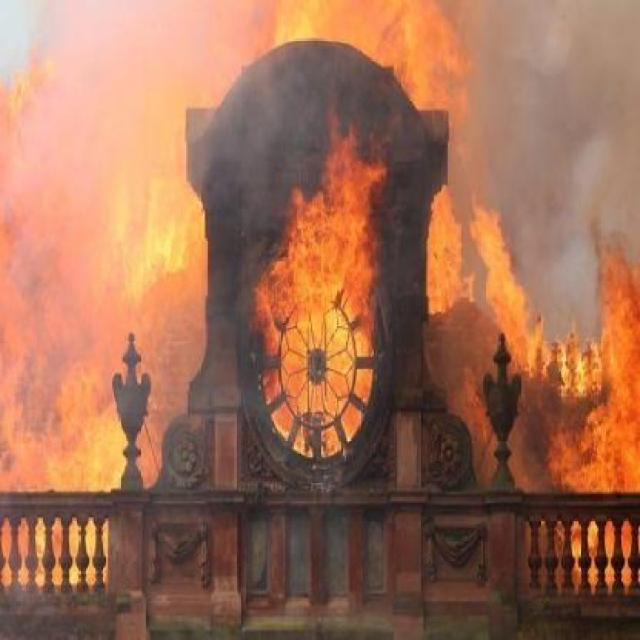Fire: (2, 57, 218, 605), (427, 172, 640, 621), (247, 128, 398, 497), (249, 0, 484, 135)
Smoke: (474, 0, 636, 386), (3, 0, 260, 174)
